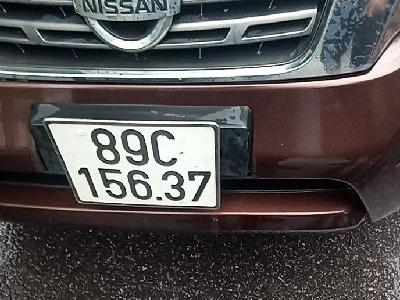lisence: (41, 116, 221, 210)
